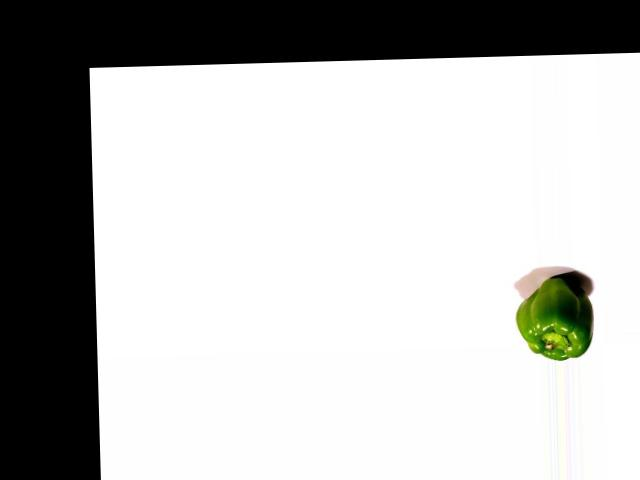bell_pepper: (512, 271, 596, 361)
